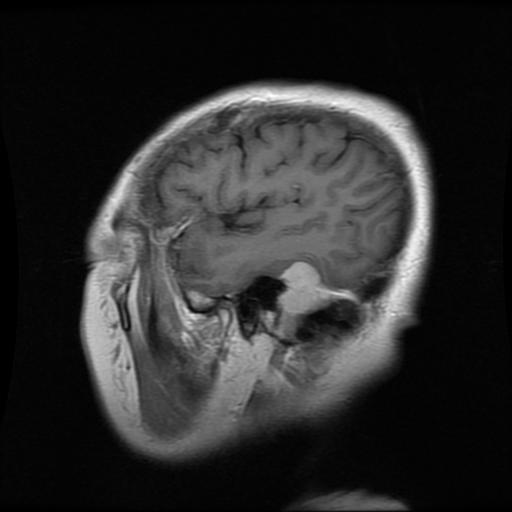Menigiomia_tumour: (276, 261, 356, 315)
